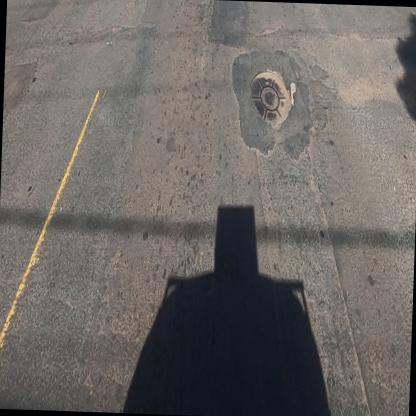manholes: (246, 62, 300, 134)
